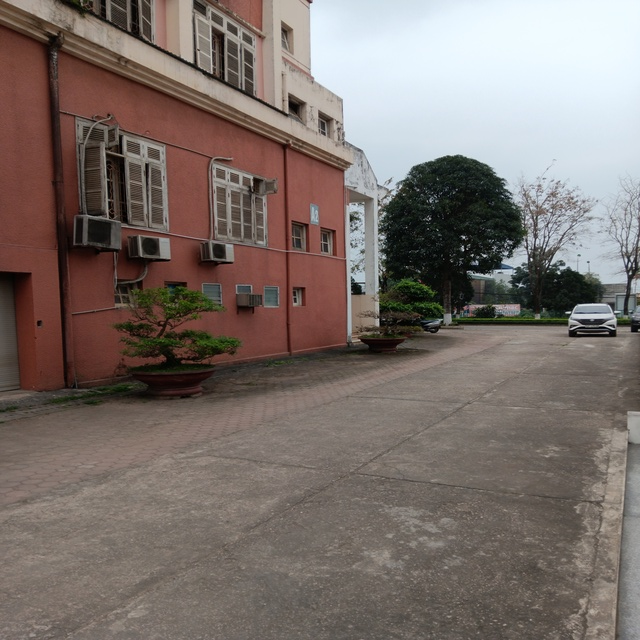caycanh: (115, 281, 238, 409), (344, 269, 450, 368)
